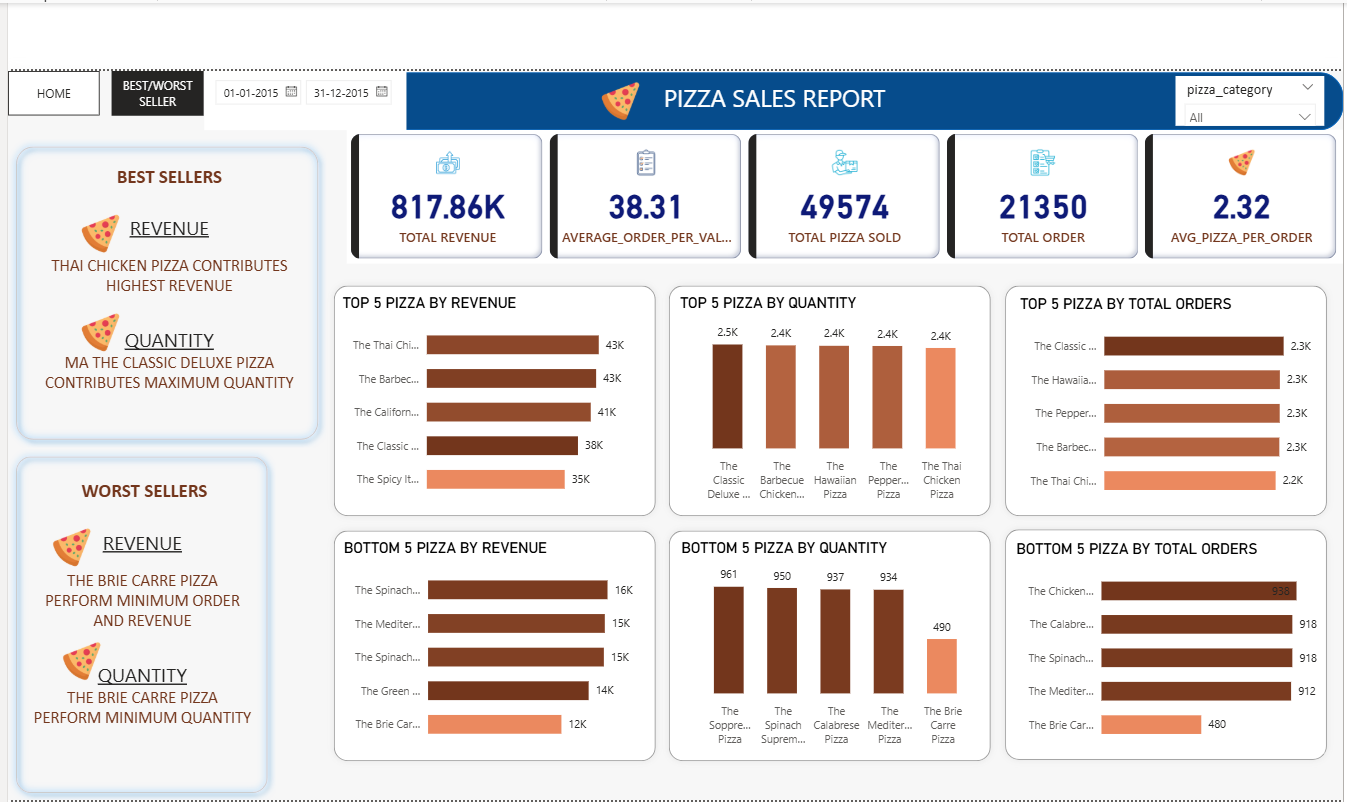

Layout of this report page (visuals, bound fields, positions):
{"tool":"powerbi","page":{"name":"BEST/WORST SELLER","canvas":[1500,820],"ordinal":1},"visuals":[{"type":"cardVisual","fields":{"Data":["pizza_sales.TOTAL REVENUE","pizza_sales.AVERAGE_ORDER_PER_VALUE","pizza_sales.TOTAL PIZZA SOLD","pizza_sales.TOTAL ORDER","pizza_sales.AVG_PIZZA_PER_ORDER"]},"box":[380,66.2,1120,150],"z":0},{"type":"shape","box":[227.5,1.2,1272.5,65],"z":1000},{"type":"textbox","box":[688.8,7.5,346.2,53.8],"z":2000},{"type":"image","box":[633.8,7.5,110,53.8],"z":3000},{"type":"shape","box":[357.5,232.5,377.5,275],"z":4000},{"type":"shape","box":[0,76.2,357.5,347.5],"z":5000},{"type":"textbox","box":[27.5,101.2,306.2,55],"z":6000},{"type":"textbox","box":[27.5,156.2,306.2,240],"z":7000},{"type":"image","box":[48.8,156.2,110,53.8],"z":8000},{"type":"image","box":[48.8,266.2,110,53.8],"z":9000},{"type":"shape","box":[0,424.2,300.6,396.1],"z":10000},{"type":"textbox","box":[0,453.8,306.2,55],"z":11000},{"type":"image","box":[16.2,508.8,110,53.8],"z":12000},{"type":"image","box":[27.5,636.2,110,53.8],"z":13000},{"type":"slicer","fields":{"Values":["pizza_sales.pizza_category"]},"box":[1311.2,5,167.5,56.2],"z":14000},{"type":"slicer","fields":{"Values":["pizza_sales.order_date"]},"box":[221,0,227,66.1],"z":15000},{"type":"shape","box":[735,233.8,377.5,275],"z":16000},{"type":"shape","box":[1112.5,232.5,377.5,275],"z":17000},{"type":"shape","box":[357.5,508.8,377.5,275],"z":18000},{"type":"shape","box":[735,508.8,377.5,275],"z":19000},{"type":"shape","box":[1112.5,507.5,377.5,275],"z":20000},{"type":"barChart","title":"TOP 5 PIZZA BY REVENUE","fields":{"Category":["pizza_sales.pizza_name"],"Y":["pizza_sales.TOTAL REVENUE"]},"box":[371.2,250,346.2,241.2],"z":21000},{"type":"barChart","title":"BOTTOM 5 PIZZA BY REVENUE","fields":{"Category":["pizza_sales.pizza_name"],"Y":["pizza_sales.TOTAL REVENUE"]},"box":[372.5,525,346.2,241.2],"z":22000},{"type":"columnChart","title":"TOP 5 PIZZA BY QUANTITY","fields":{"Category":["pizza_sales.pizza_name"],"Y":["pizza_sales.TOTAL PIZZA SOLD"]},"box":[750,250,346.2,241.2],"z":23000},{"type":"columnChart","title":"BOTTOM 5 PIZZA BY QUANTITY","fields":{"Category":["pizza_sales.pizza_name"],"Y":["pizza_sales.TOTAL PIZZA SOLD"]},"box":[751.2,525,346.2,241.2],"z":24000},{"type":"barChart","title":"TOP 5 PIZZA BY TOTAL ORDERS","fields":{"Category":["pizza_sales.pizza_name"],"Y":["pizza_sales.TOTAL ORDER"]},"box":[1132.5,251.2,346.2,241.2],"z":25000},{"type":"barChart","title":"BOTTOM 5 PIZZA BY TOTAL ORDERS","fields":{"Category":["pizza_sales.pizza_name"],"Y":["pizza_sales.TOTAL ORDER"]},"box":[1127.5,526.2,351.2,240],"z":26000},{"type":"textbox","box":[22.5,509.8,257,273.9],"z":27000},{"type":"pageNavigator","box":[0,0,103.9,50.6],"z":28000},{"type":"pageNavigator","box":[116.6,0,103.9,50.6],"z":29000}]}

Visuals, with their boxes on the page's 1500x820 design canvas (x1, y1, x2, y2). These are canvas units, not pixel positions in the 1347x802 screenshot, which may show the page scaled, cropped or inside an application window:
cardVisual - pizza_sales.TOTAL REVENUE x pizza_sales.AVERAGE_ORDER_PER_VALUE: Rect(380, 66, 1500, 216)
shape: Rect(228, 1, 1500, 66)
textbox: Rect(689, 8, 1035, 61)
image: Rect(634, 8, 744, 61)
shape: Rect(358, 232, 735, 508)
shape: Rect(0, 76, 358, 424)
textbox: Rect(28, 101, 334, 156)
textbox: Rect(28, 156, 334, 396)
image: Rect(49, 156, 159, 210)
image: Rect(49, 266, 159, 320)
shape: Rect(0, 424, 301, 820)
textbox: Rect(0, 454, 306, 509)
image: Rect(16, 509, 126, 563)
image: Rect(28, 636, 138, 690)
slicer - pizza_sales.pizza_category: Rect(1311, 5, 1479, 61)
slicer - pizza_sales.order_date: Rect(221, 0, 448, 66)
shape: Rect(735, 234, 1112, 509)
shape: Rect(1112, 232, 1490, 508)
shape: Rect(358, 509, 735, 784)
shape: Rect(735, 509, 1112, 784)
shape: Rect(1112, 508, 1490, 782)
"TOP 5 PIZZA BY REVENUE" barChart: Rect(371, 250, 717, 491)
"BOTTOM 5 PIZZA BY REVENUE" barChart: Rect(372, 525, 719, 766)
"TOP 5 PIZZA BY QUANTITY" columnChart: Rect(750, 250, 1096, 491)
"BOTTOM 5 PIZZA BY QUANTITY" columnChart: Rect(751, 525, 1097, 766)
"TOP 5 PIZZA BY TOTAL ORDERS" barChart: Rect(1132, 251, 1479, 492)
"BOTTOM 5 PIZZA BY TOTAL ORDERS" barChart: Rect(1128, 526, 1479, 766)
textbox: Rect(22, 510, 280, 784)
pageNavigator: Rect(0, 0, 104, 51)
pageNavigator: Rect(117, 0, 220, 51)
